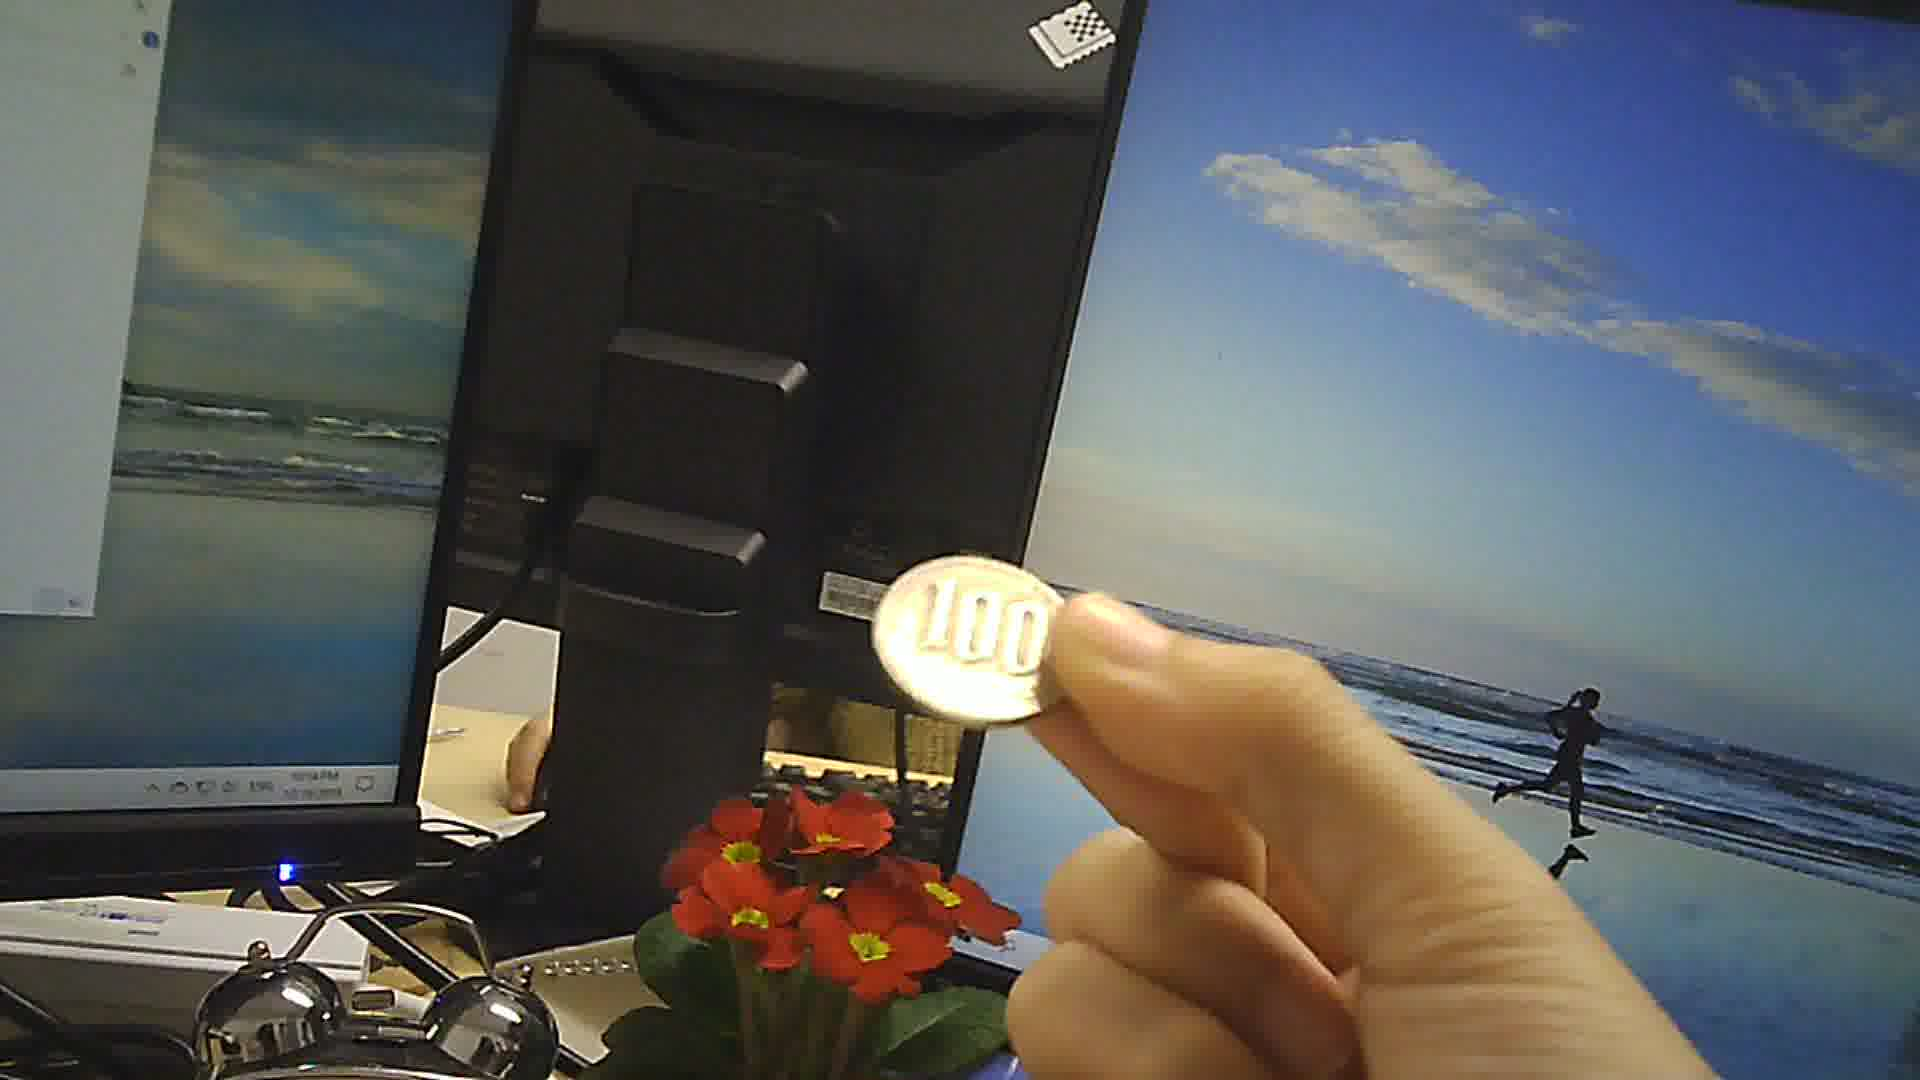100 Yen: (872, 549, 1091, 721)
